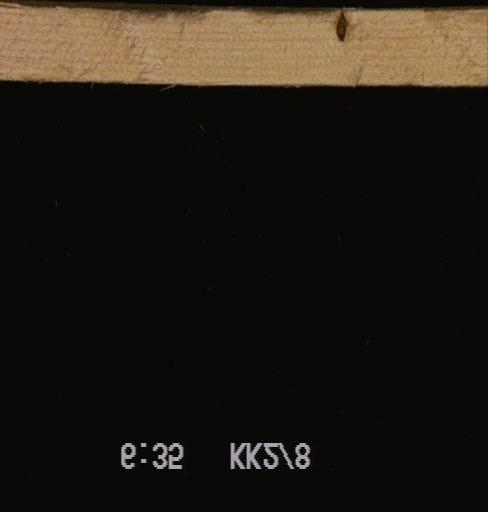dry_knot: (334, 10, 347, 44)
